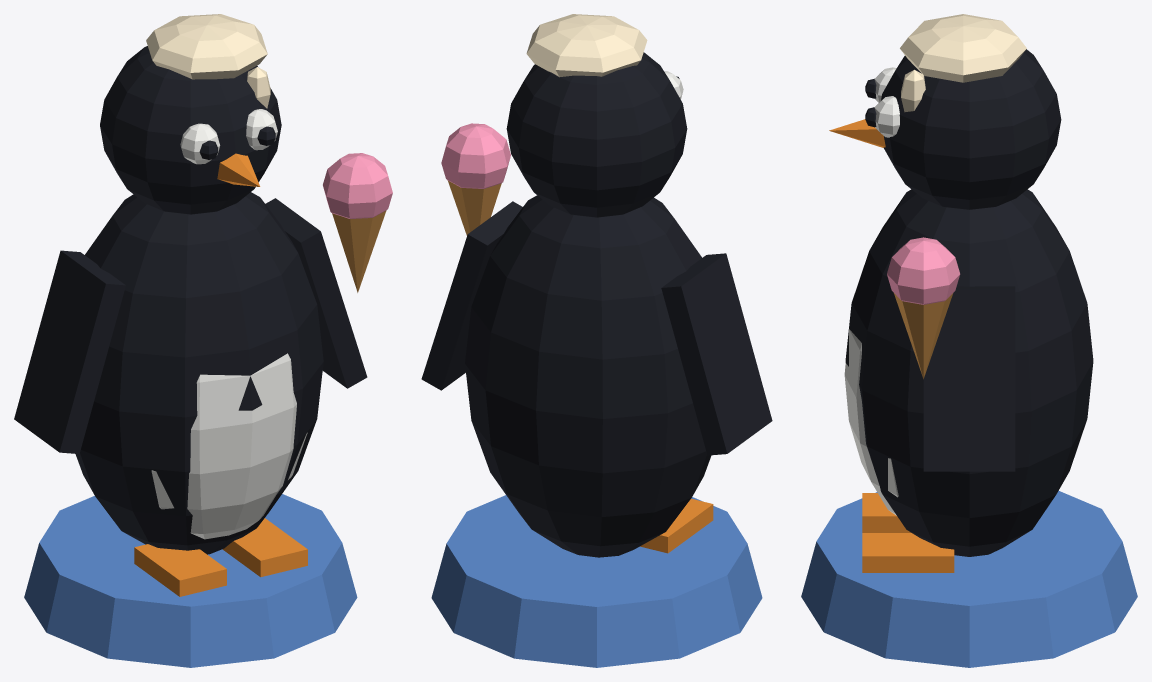
Rendered from penguin_statue.glb.
3 views of the same model, side by side, from view 1: azimuth 30°, elevation 25°; view 2: azimuth 150°, elevation 25°; view 3: azimuth 270°, elevation 25° (orthographic).
Parts seen in each view (by area): view 1: body_penguin_black, base_penguin_base, wings_penguin_black, head_penguin_black, belly_penguin_white, drop_statue_drop (×2), feet_penguin_orange, scoop_statue_scoop, cone_statue_cone, eyes_penguin_white, beak_penguin_orange, pupils_penguin_black; view 2: body_penguin_black, base_penguin_base, head_penguin_black, wings_penguin_black, drop_statue_drop, scoop_statue_scoop, feet_penguin_orange, cone_statue_cone; view 3: body_penguin_black, base_penguin_base, head_penguin_black, wings_penguin_black, drop_statue_drop (×2), feet_penguin_orange, scoop_statue_scoop, belly_penguin_white, cone_statue_cone, eyes_penguin_white, beak_penguin_orange.
Part boxes in pixels (bbox=[...]): body_penguin_black: bbox=[75, 192, 323, 554]; base_penguin_base: bbox=[24, 494, 357, 667]; wings_penguin_black: bbox=[14, 198, 367, 453]; head_penguin_black: bbox=[100, 46, 281, 214]; belly_penguin_white: bbox=[151, 353, 307, 539]; drop_statue_drop (×2): bbox=[146, 14, 270, 108]; feet_penguin_orange: bbox=[134, 518, 307, 596]; scoop_statue_scoop: bbox=[323, 153, 392, 218]; cone_statue_cone: bbox=[332, 210, 386, 292]; eyes_penguin_white: bbox=[180, 109, 277, 164]; beak_penguin_orange: bbox=[217, 153, 260, 186]; pupils_penguin_black: bbox=[199, 126, 275, 159]; body_penguin_black: bbox=[465, 195, 711, 557]; base_penguin_base: bbox=[431, 495, 762, 667]; head_penguin_black: bbox=[506, 52, 687, 217]; wings_penguin_black: bbox=[421, 201, 772, 455]; drop_statue_drop: bbox=[526, 14, 647, 77]; scoop_statue_scoop: bbox=[441, 123, 510, 188]; feet_penguin_orange: bbox=[640, 498, 713, 553]; cone_statue_cone: bbox=[447, 180, 501, 235]; body_penguin_black: bbox=[845, 189, 1093, 556]; base_penguin_base: bbox=[801, 491, 1137, 667]; head_penguin_black: bbox=[881, 49, 1061, 209]; wings_penguin_black: bbox=[923, 286, 1015, 471]; drop_statue_drop (×2): bbox=[900, 14, 1026, 112]; feet_penguin_orange: bbox=[862, 493, 954, 572]; scoop_statue_scoop: bbox=[887, 237, 960, 304]; belly_penguin_white: bbox=[844, 329, 898, 515]; cone_statue_cone: bbox=[894, 293, 953, 378]; eyes_penguin_white: bbox=[874, 67, 899, 137]; beak_penguin_orange: bbox=[829, 119, 885, 147].
Bounding box in the file's own units: 1.26 × 2.08 × 1.1.
